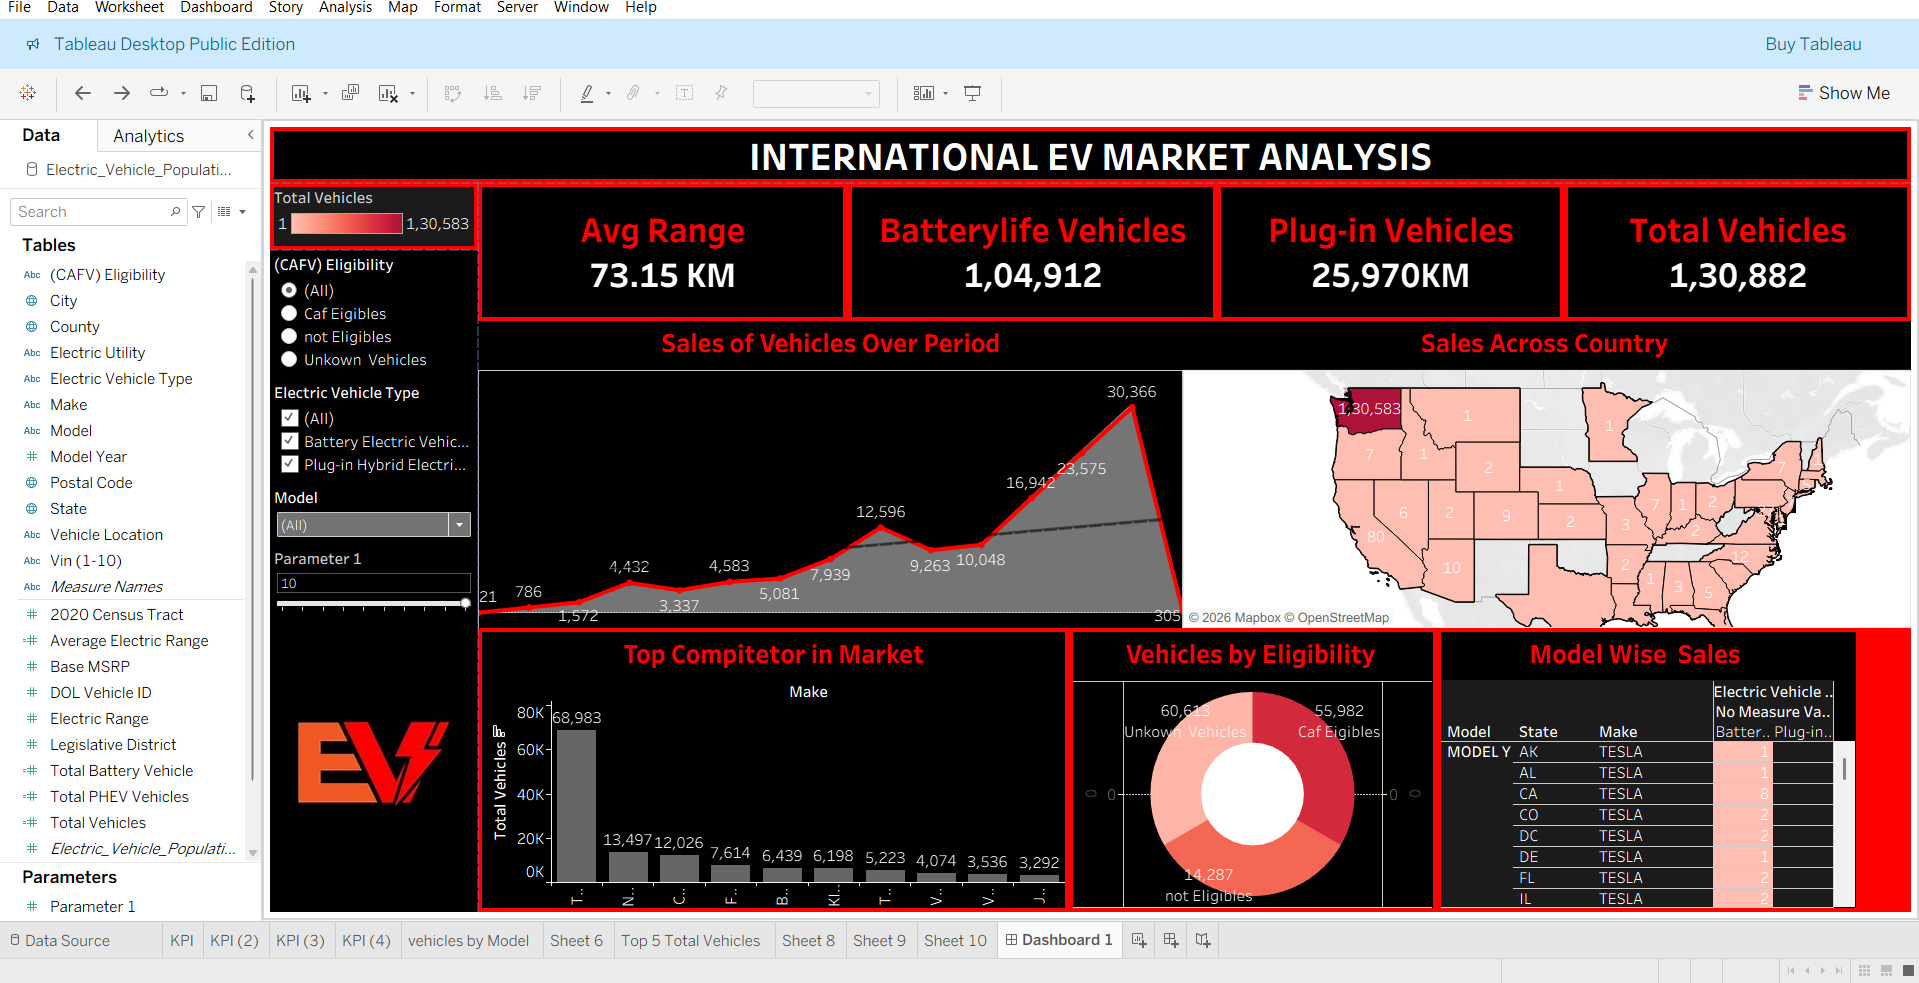

The page's visual inventory and layout, read from the dashboard file:
{"tool":"tableau","page":{"name":"Dashboard 1","canvas":[1000,1000],"units":"permille","ordinal":0},"visuals":[{"type":"title","box":[4.8,10,990.3,69.8]},{"type":"legend","title":"Sheet 6","param":"[federated.1fst19b0nvcqr817emqrg1h6zwrj].[usr:Calculation_8062569255419498496:qk","box":[4.8,79.8,125.6,83.1]},{"type":"worksheet","title":"KPI (2)","mark":"Text","box":[130.5,79.8,222.9,172.3]},{"type":"worksheet","title":"KPI (3)","mark":"Text","box":[353.4,79.8,222.9,172.3]},{"type":"worksheet","title":"KPI (4)","mark":"Text","box":[576.2,79.8,209.5,172.3]},{"type":"worksheet","title":"KPI","mark":"Text","box":[785.7,79.8,209.5,172.3]},{"type":"filter","title":"vehicles by Model","param":"[federated.1fst19b0nvcqr817emqrg1h6zwrj].[none:Clean Alternative Fuel Vehicle (C","box":[4.8,163,125.6,159.8]},{"type":"worksheet","title":"vehicles by Model","mark":"Area","rows":["Calculation_8062569255419498496","Calculation_8062569255419498496"],"cols":["Model Year"],"box":[130.5,252.1,425.5,383.3]},{"type":"worksheet","title":"Sheet 6","mark":"Automatic","box":[555.9,252.1,439.2,383.3]},{"type":"filter","title":"vehicles by Model","param":"[federated.1fst19b0nvcqr817emqrg1h6zwrj].[none:Electric Vehicle Type:nk]","box":[4.8,322.8,125.6,131.1]},{"type":"filter","title":"vehicles by Model","param":"[federated.1fst19b0nvcqr817emqrg1h6zwrj].[none:Model:nk]","box":[4.8,453.9,125.6,76.2]},{"type":"parameter","param":"[Parameters].[Parameter 1]","box":[4.8,530,125.6,98.6]},{"type":"image","param":"C:/Users/iamhe/Downloads/OIP.jpg","box":[4.8,628.6,125.6,352.1]},{"type":"worksheet","title":"Top 5 Total Vehicles","mark":"Automatic","rows":["Calculation_8062569255419498496"],"cols":["Make"],"box":[130.5,635.4,356.7,354.6]},{"type":"worksheet","title":"Sheet 8","mark":"Pie","rows":["Calculation_8062569255437484038","Calculation_8062569255437500424"],"box":[487.1,635.4,222.1,354.6]},{"type":"worksheet","title":"Sheet 9","mark":"Square","rows":["Model","State","Make"],"cols":["Electric Vehicle Type"],"box":[709.2,635.4,255.3,354.6]}]}

Visuals, with their boxes on the dashboard's canvas, which has no fixed pixel size, in thousandths of its width and height (x1, y1, x2, y2). These are canvas units, not pixel positions in the 1919x983 screenshot, which may show the page scaled, cropped or inside an application window:
title: {"x1": 5, "y1": 10, "x2": 995, "y2": 80}
"Sheet 6" legend: {"x1": 5, "y1": 80, "x2": 130, "y2": 163}
"KPI (2)" worksheet (Text marks): {"x1": 130, "y1": 80, "x2": 353, "y2": 252}
"KPI (3)" worksheet (Text marks): {"x1": 353, "y1": 80, "x2": 576, "y2": 252}
"KPI (4)" worksheet (Text marks): {"x1": 576, "y1": 80, "x2": 786, "y2": 252}
"KPI" worksheet (Text marks): {"x1": 786, "y1": 80, "x2": 995, "y2": 252}
"vehicles by Model" filter: {"x1": 5, "y1": 163, "x2": 130, "y2": 323}
"vehicles by Model" worksheet (Area marks): {"x1": 130, "y1": 252, "x2": 556, "y2": 635}
"Sheet 6" worksheet: {"x1": 556, "y1": 252, "x2": 995, "y2": 635}
"vehicles by Model" filter: {"x1": 5, "y1": 323, "x2": 130, "y2": 454}
"vehicles by Model" filter: {"x1": 5, "y1": 454, "x2": 130, "y2": 530}
parameter: {"x1": 5, "y1": 530, "x2": 130, "y2": 629}
image: {"x1": 5, "y1": 629, "x2": 130, "y2": 981}
"Top 5 Total Vehicles" worksheet: {"x1": 130, "y1": 635, "x2": 487, "y2": 990}
"Sheet 8" worksheet (Pie marks): {"x1": 487, "y1": 635, "x2": 709, "y2": 990}
"Sheet 9" worksheet (Square marks): {"x1": 709, "y1": 635, "x2": 964, "y2": 990}
